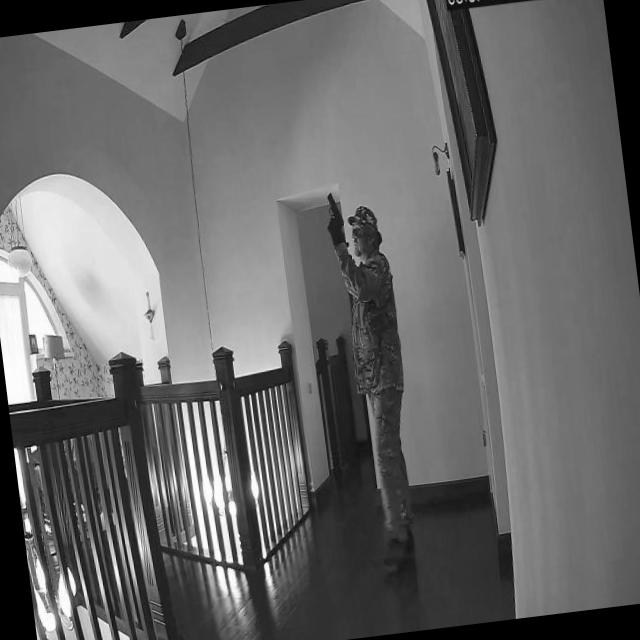gun: (322, 192, 344, 243)
person with a gun: (342, 198, 428, 564)
